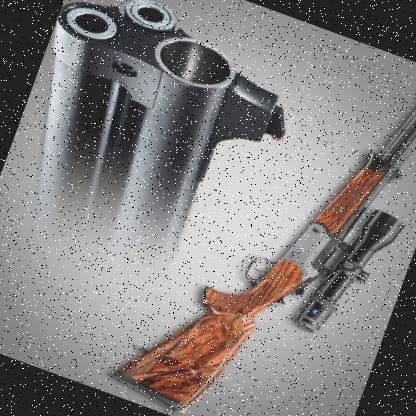rifle: (92, 0, 416, 416)
